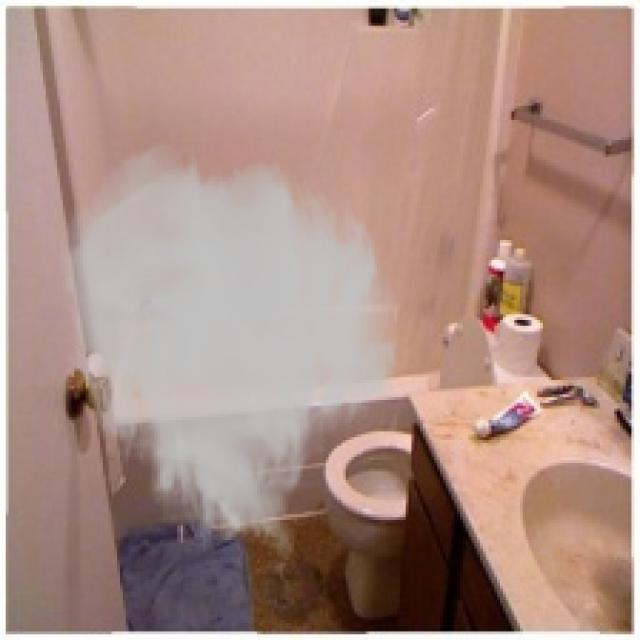smoke: (57, 140, 403, 563)
